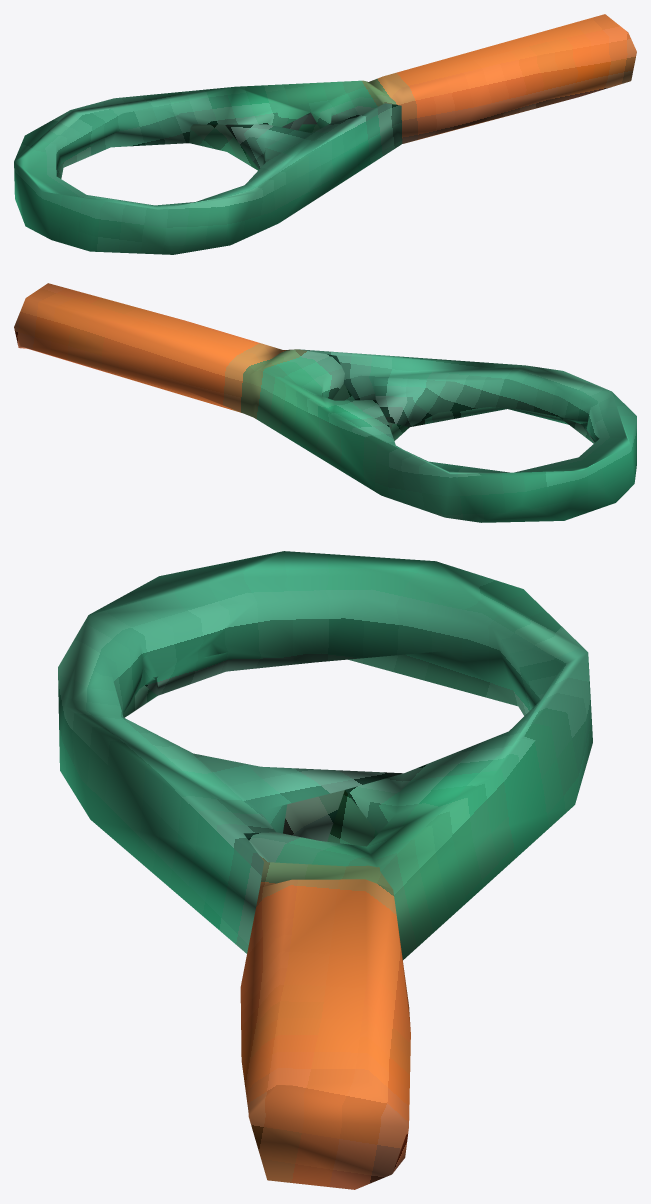
File: Magnifying_Glassassrt-low.glb
The picture shows the model from 3 angles, top to bottom: view 1: azimuth 30°, elevation 25°; view 2: azimuth 150°, elevation 25°; view 3: azimuth 270°, elevation 25°; orthographic projection. The views are drawn at different scales.
Parts seen in each view (by area): view 1: Magnifying_Glassassrt; view 2: Magnifying_Glassassrt; view 3: Magnifying_Glassassrt.
Boxes of the visible parts, x1=… form: Magnifying_Glassassrt: x1=14, y1=14, x2=636, y2=254; Magnifying_Glassassrt: x1=14, y1=283, x2=636, y2=522; Magnifying_Glassassrt: x1=58, y1=551, x2=592, y2=1189.
Bounding box in the file's own units: 0.1511 × 0.0163 × 0.0597.
Materials: 1 (1 with a texture image).
